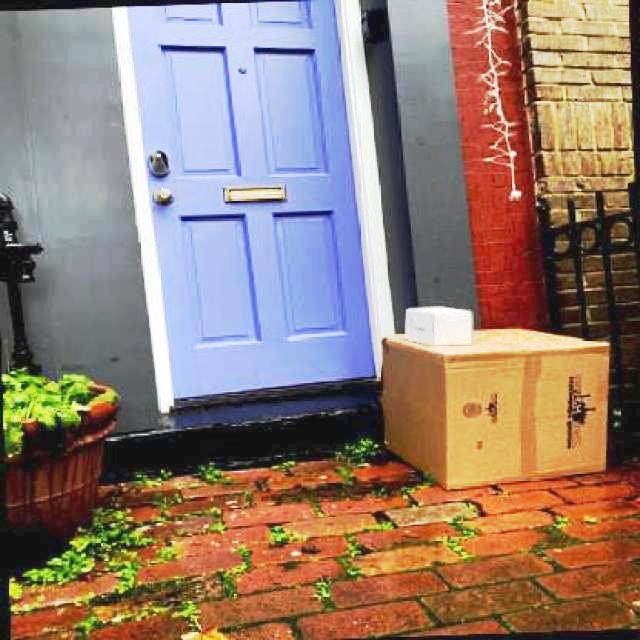Box: (368, 320, 617, 497), (396, 300, 479, 351)
